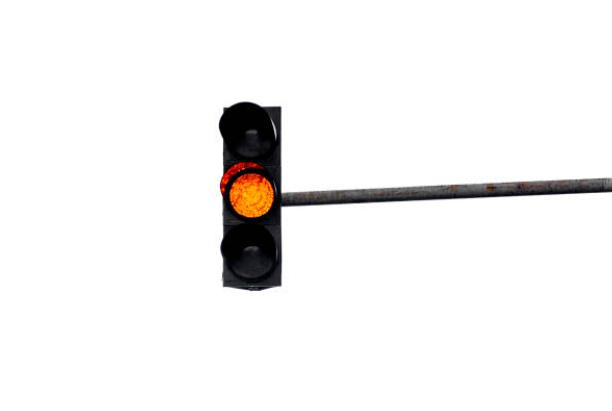yellow_light: (219, 102, 282, 290)
